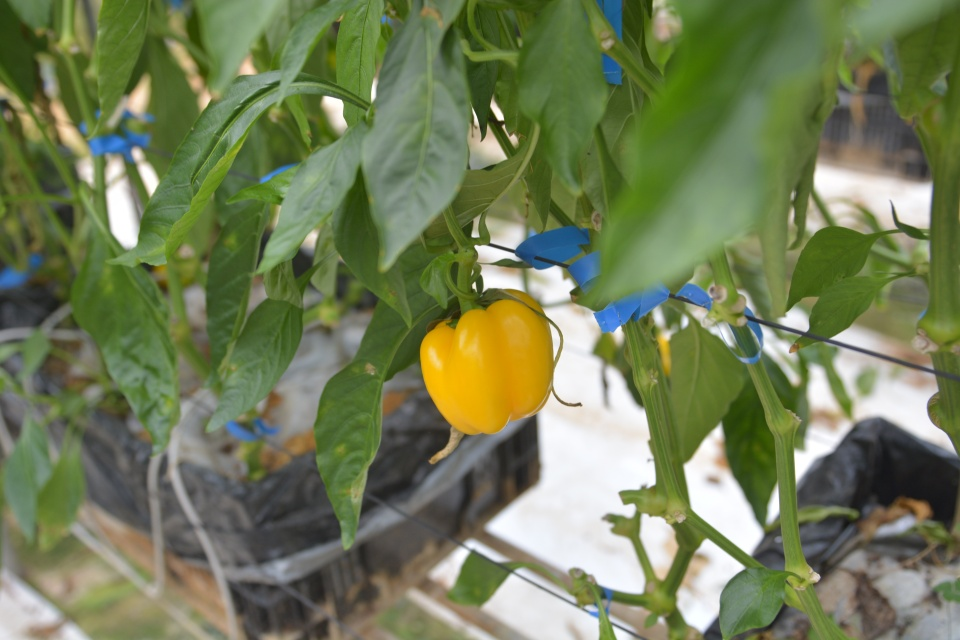fruit: (418, 285, 556, 437)
